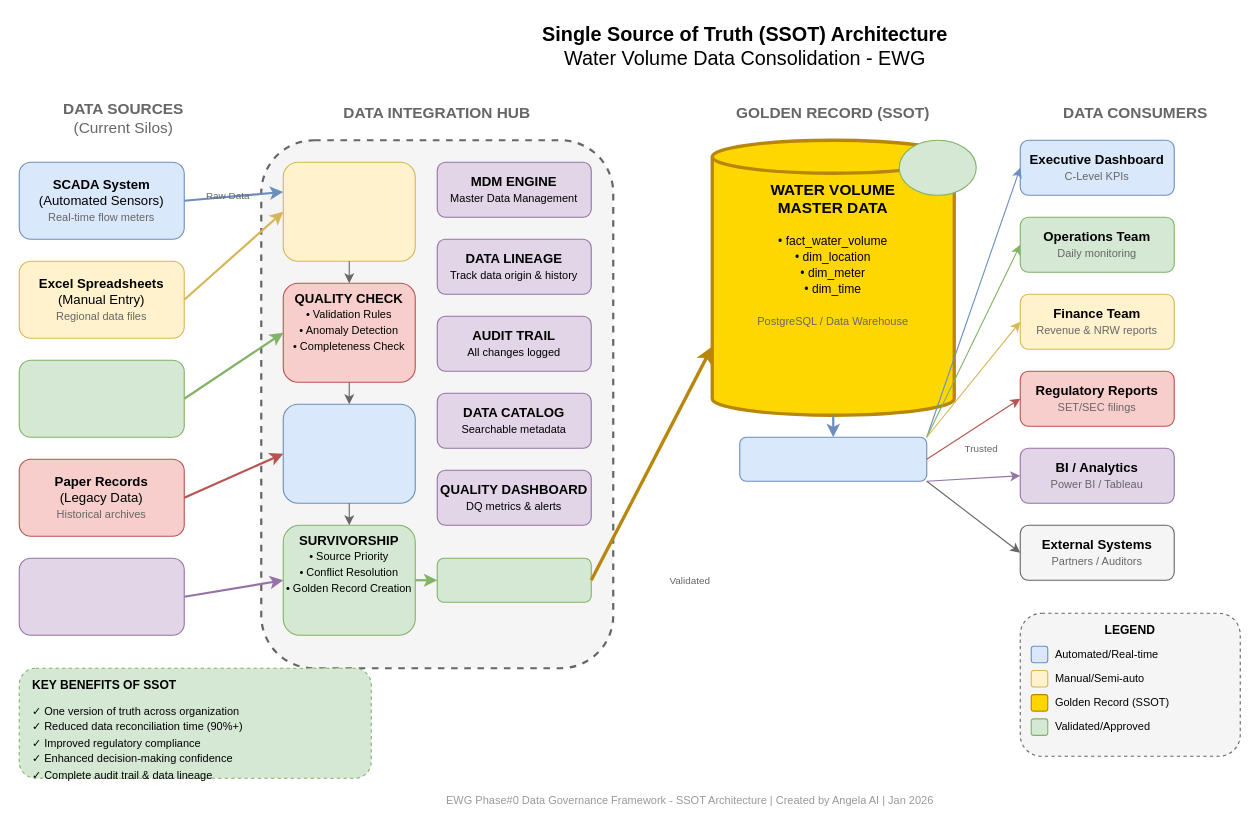
This 1260x829 diagram has some shape labels left out. Here are the shapes that lost their labels. From the top down, the centre of each, then its label:
At (937,167): "DQ Score ≥ 95%".
At (348,211): "EXTRACT • API Connectors • File Readers • DB Connectors".
At (101,398): "ERP System (Billing Data) Customer consumption".
At (348,453): "TRANSFORM • Unit Conversion • Code Mapping • Standardization".
At (833,458): "DATA API REST / GraphQL".
At (101,596): "Regional Databases (Isolated Systems) Access/SQLite DBs".
At (513,579): "LOAD".
